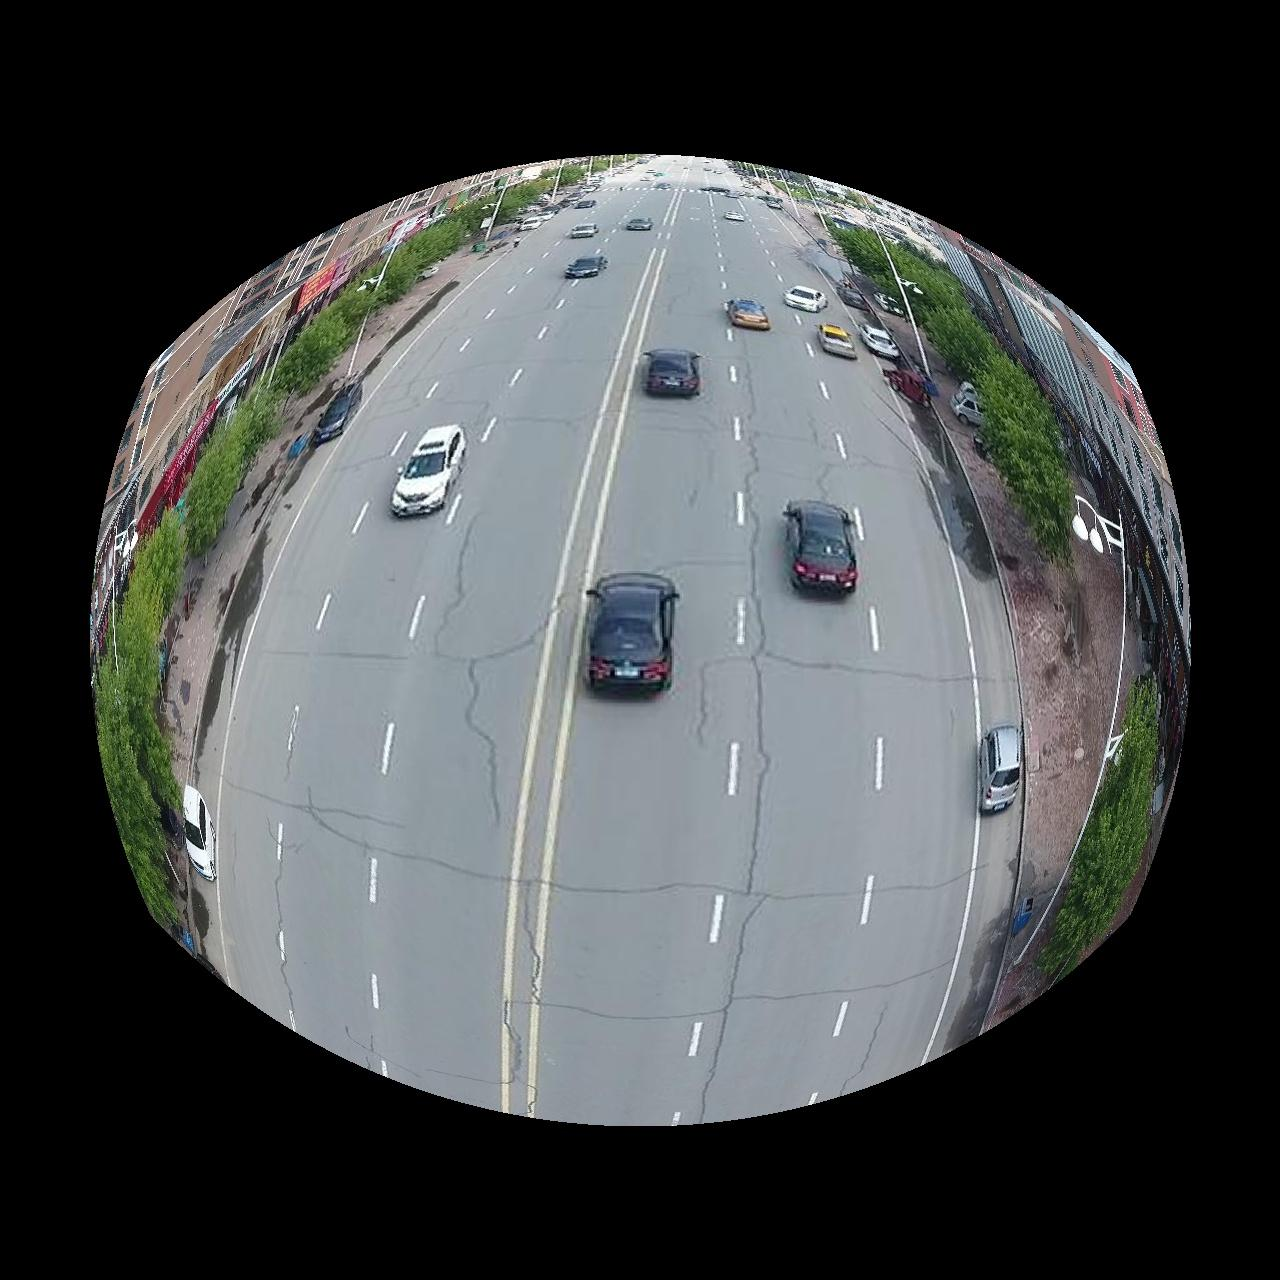building: (999, 268, 1192, 680)
cars: (586, 573, 680, 692), (390, 425, 467, 517), (785, 501, 860, 593), (981, 726, 1024, 813), (182, 787, 216, 880), (646, 347, 701, 396), (893, 370, 940, 404), (862, 322, 903, 360), (726, 298, 772, 329), (951, 382, 985, 425), (818, 322, 858, 359), (784, 284, 829, 312), (565, 251, 608, 279)
trees: (1039, 678, 1160, 980), (95, 567, 181, 931), (833, 219, 998, 380), (978, 350, 1075, 559), (340, 200, 485, 315), (185, 392, 270, 554), (271, 291, 369, 395), (128, 511, 184, 606)
